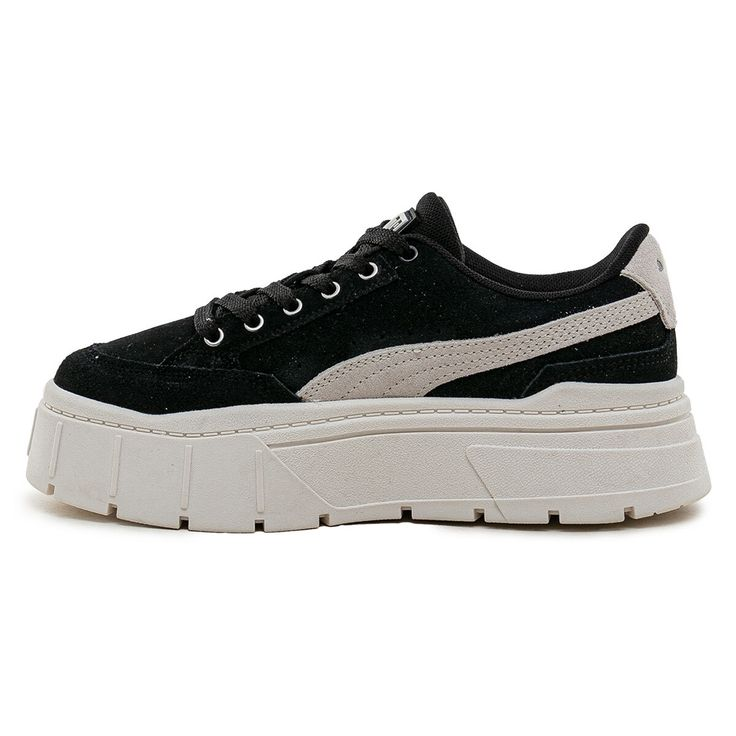gamuza: (52, 192, 678, 416)
